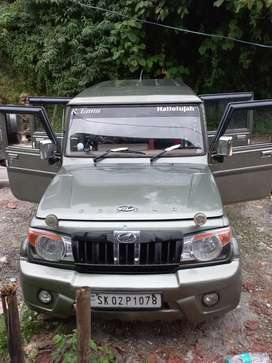SK02P1078: (90, 293, 161, 308)
